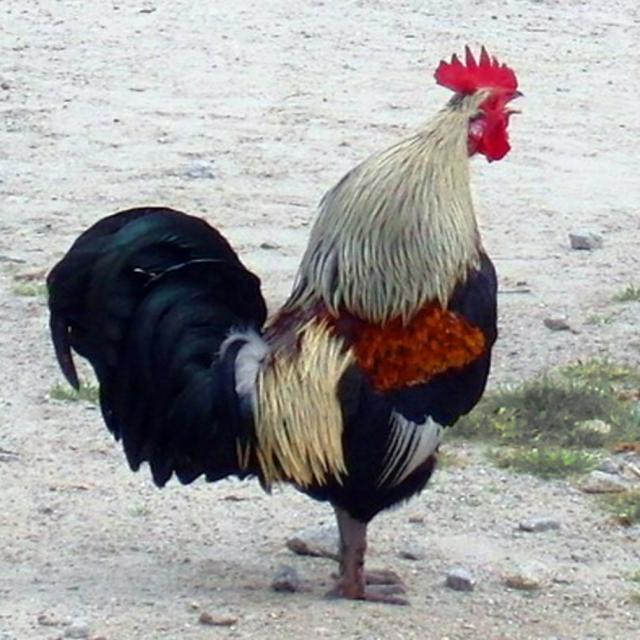Chicken: (46, 43, 526, 605)
